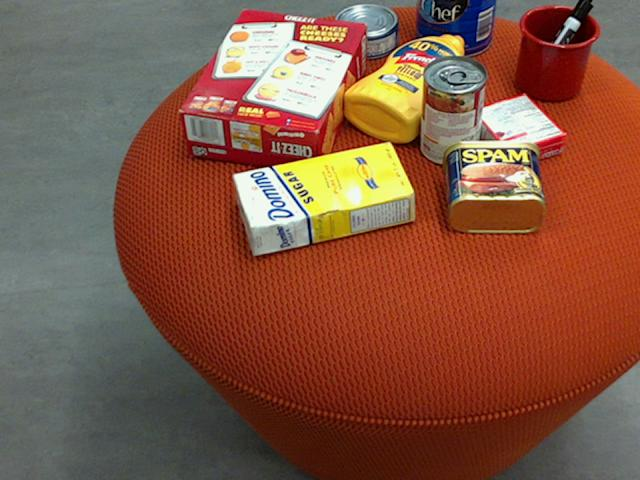cracker_box: (176, 8, 367, 173)
gelatin_box: (471, 95, 567, 168)
large_marker: (524, 0, 592, 89)
master_chef_can: (415, 0, 496, 55)
mug: (515, 4, 600, 100)
mustard_bottle: (342, 34, 464, 141)
potted_meat_can: (441, 139, 544, 232)
sugar_box: (231, 140, 415, 256)
tomato_soup_can: (420, 54, 485, 164)
tuna_fish_can: (333, 3, 398, 56)
